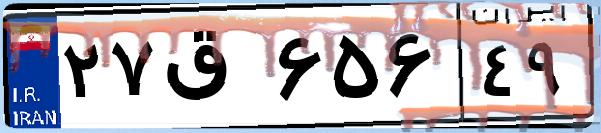2: (57, 26, 110, 100)
4: (475, 38, 525, 113)
5: (330, 28, 385, 110)
6: (270, 28, 330, 110), (385, 28, 445, 110)
7: (110, 28, 158, 98)
9: (525, 38, 570, 115)
ق: (158, 20, 270, 120)
